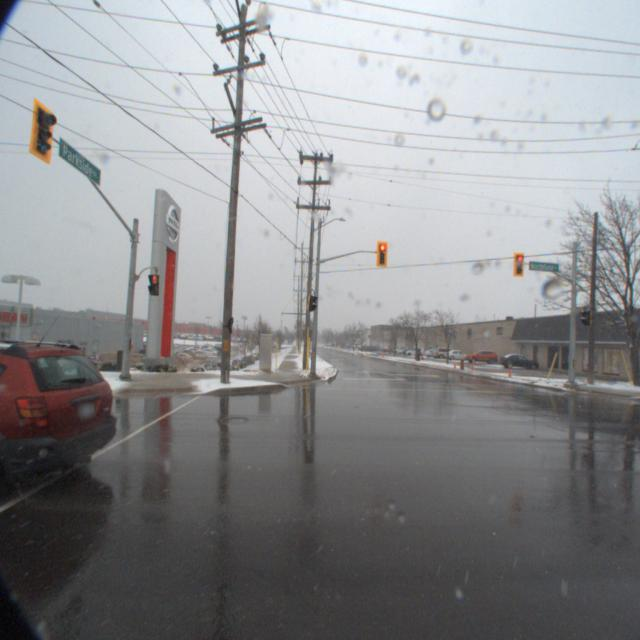Car: (497, 352, 541, 369), (462, 348, 499, 364)
